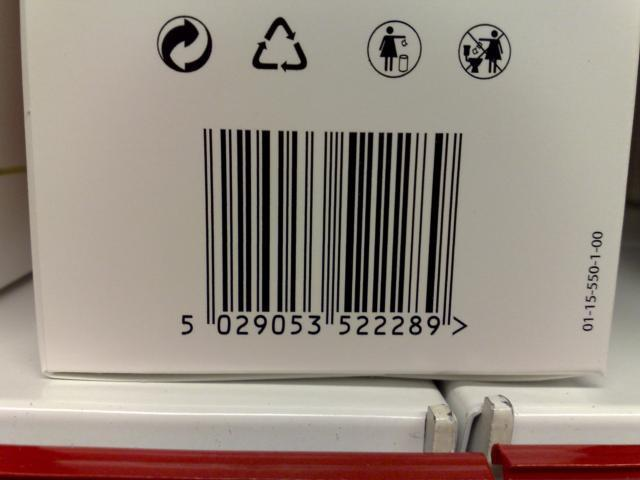Barcode: (165, 114, 485, 352)
